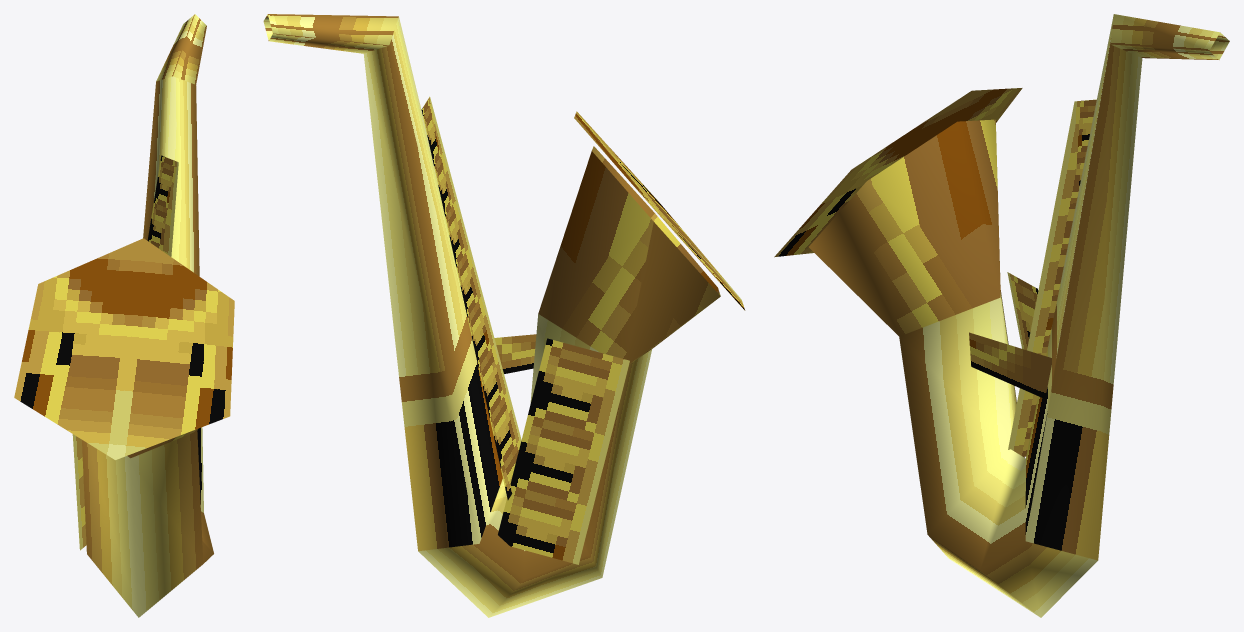
3 renders of one model, left to right at view 1: azimuth 30°, elevation 25°; view 2: azimuth 150°, elevation 25°; view 3: azimuth 270°, elevation 25°, orthographic. The views are drawn at different scales.
Visible parts, largest first — view 1: 1344gakki03_c; view 2: 1344gakki03_c; view 3: 1344gakki03_c.
Part boxes in pixels (x1=…): 1344gakki03_c: x1=14, y1=14, x2=234, y2=617; 1344gakki03_c: x1=263, y1=14, x2=745, y2=617; 1344gakki03_c: x1=774, y1=14, x2=1229, y2=617.
Bounding box in the file's own units: 0.5261 × 0.8823 × 0.5586.
Materials: 1 (1 with a texture image).
